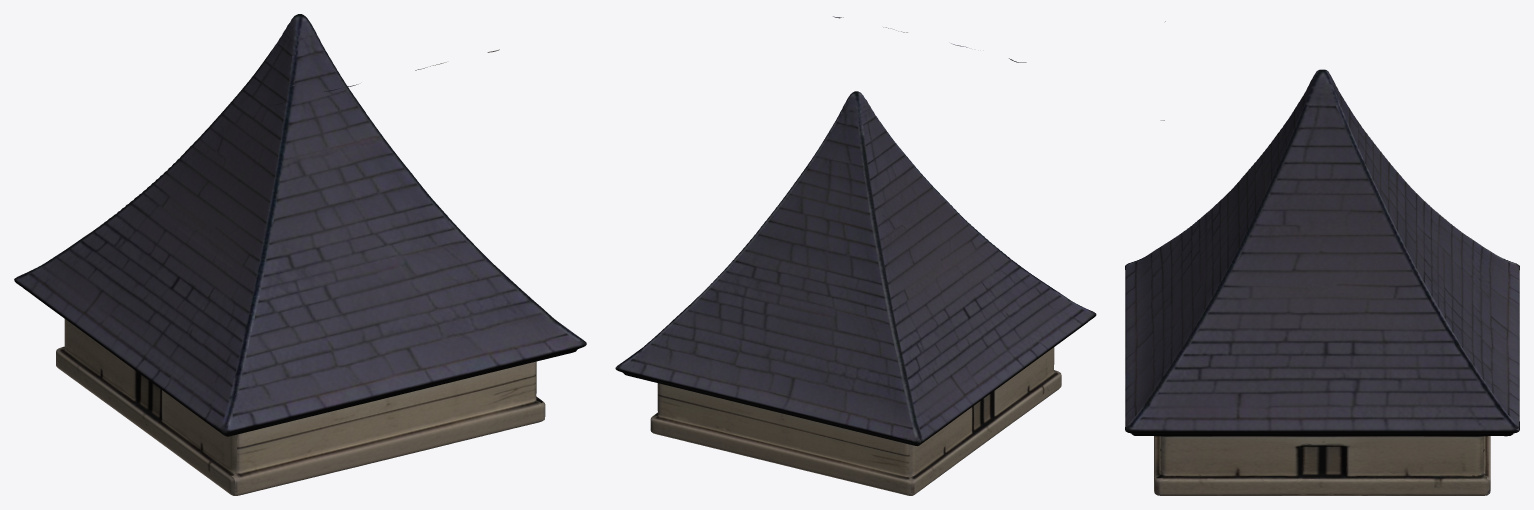
Rendered from feature-church-spire.glb.
3 views of the same model, side by side, from view 1: azimuth 30°, elevation 25°; view 2: azimuth 150°, elevation 25°; view 3: azimuth 270°, elevation 25° (orthographic). The views are drawn at different scales.
Visible parts, largest first — view 1: tmpjh0fol1s.ply; view 2: tmpjh0fol1s.ply; view 3: tmpjh0fol1s.ply.
Part boxes in pixels (box(x1,y1,x2,y2)): tmpjh0fol1s.ply: box(14, 14, 586, 495); tmpjh0fol1s.ply: box(615, 16, 1096, 495); tmpjh0fol1s.ply: box(1125, 21, 1519, 495).
Size of the model in its own units: 1 by 1 by 1.
1 material, 1 textured.
